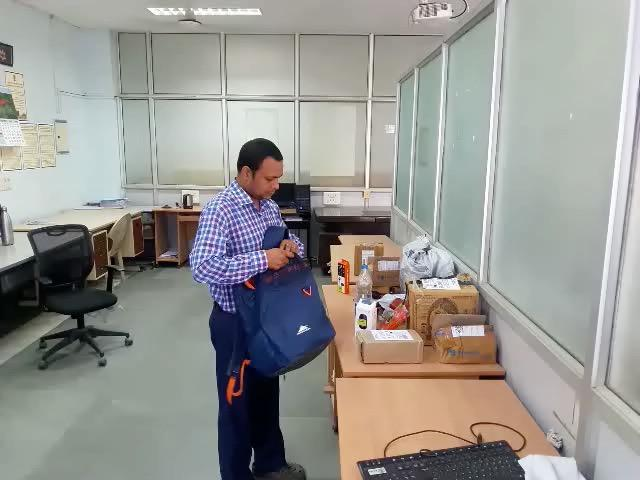shoplifting: (169, 214, 384, 391)
